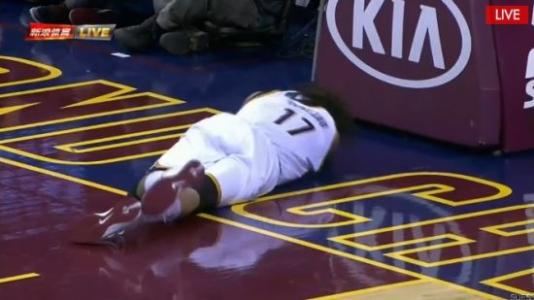fall: (76, 68, 344, 259)
